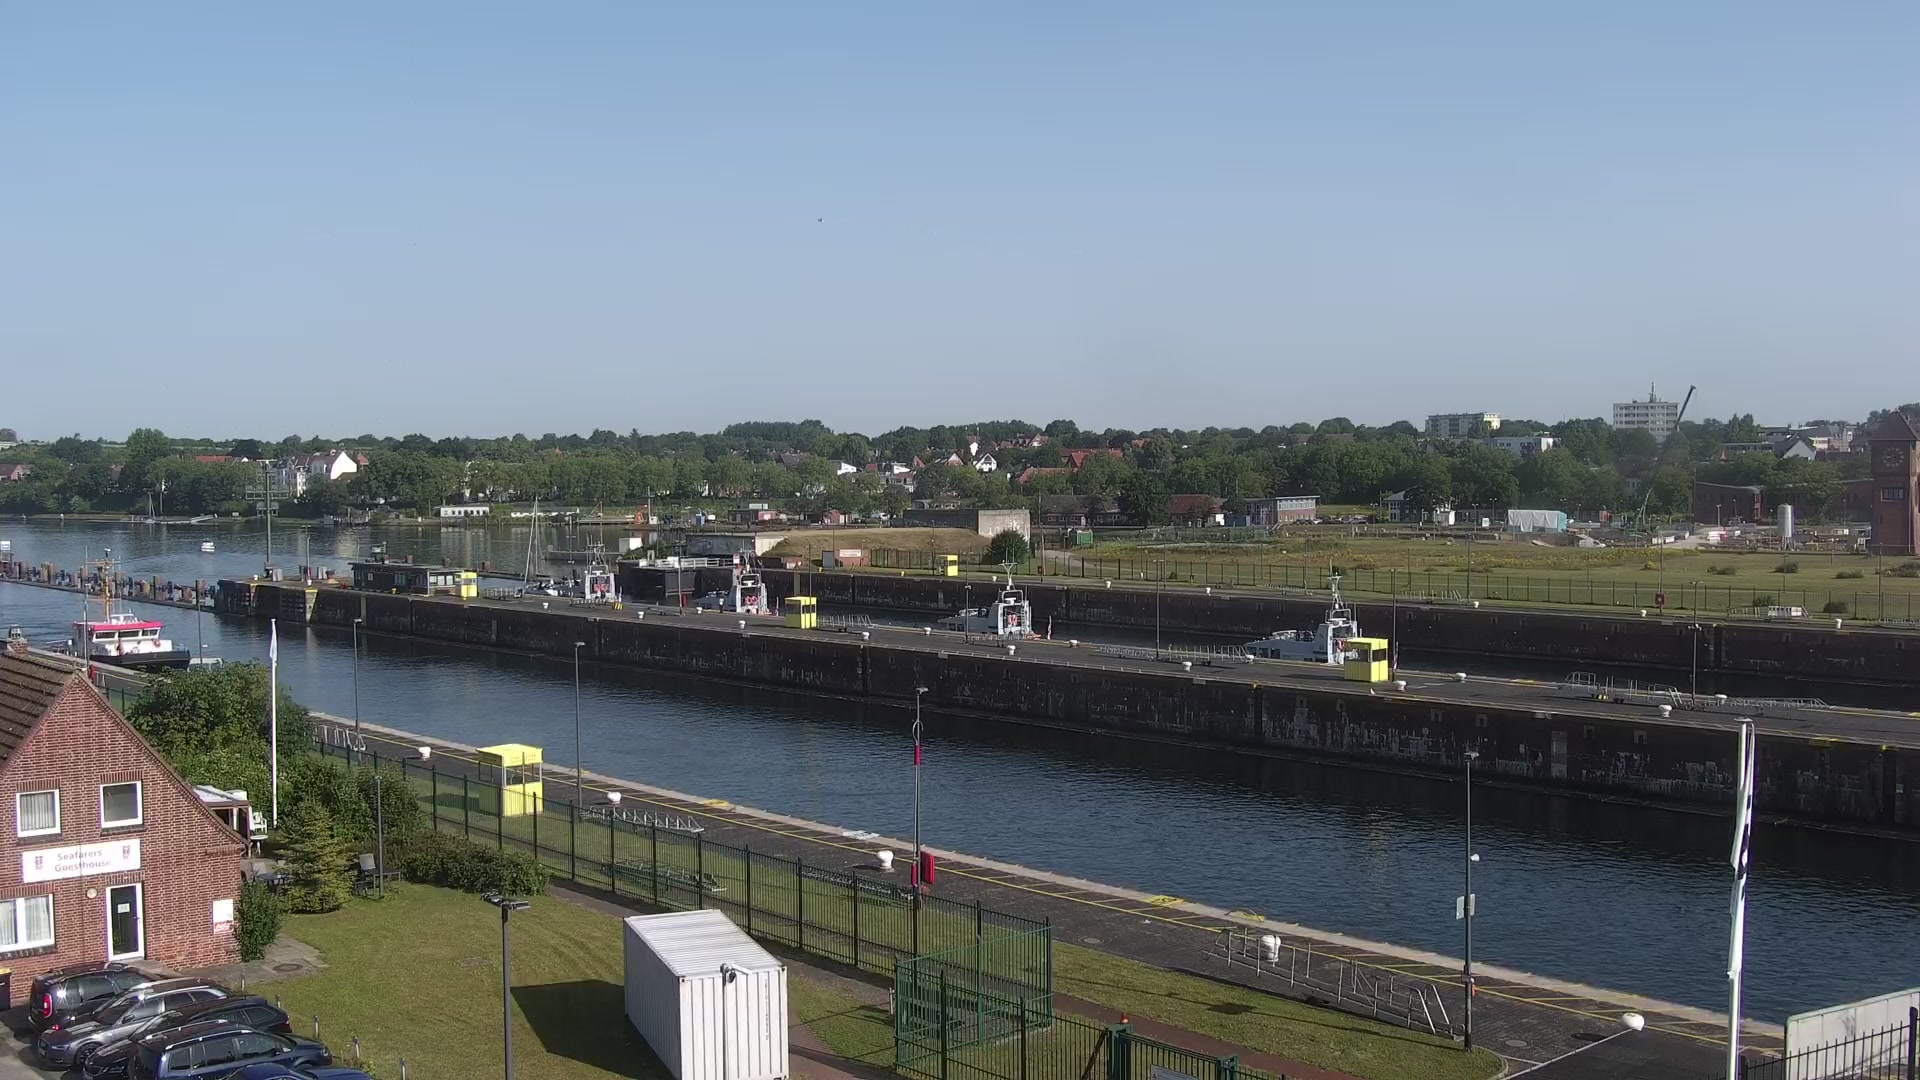land: (34, 975, 237, 1068), (79, 992, 291, 1077), (124, 1015, 332, 1079), (25, 957, 189, 1033), (200, 1062, 375, 1079)
sea: (41, 546, 191, 675), (1237, 568, 1369, 665), (934, 546, 1054, 640), (684, 538, 778, 615), (513, 539, 621, 601), (521, 495, 564, 596), (141, 491, 156, 524)
